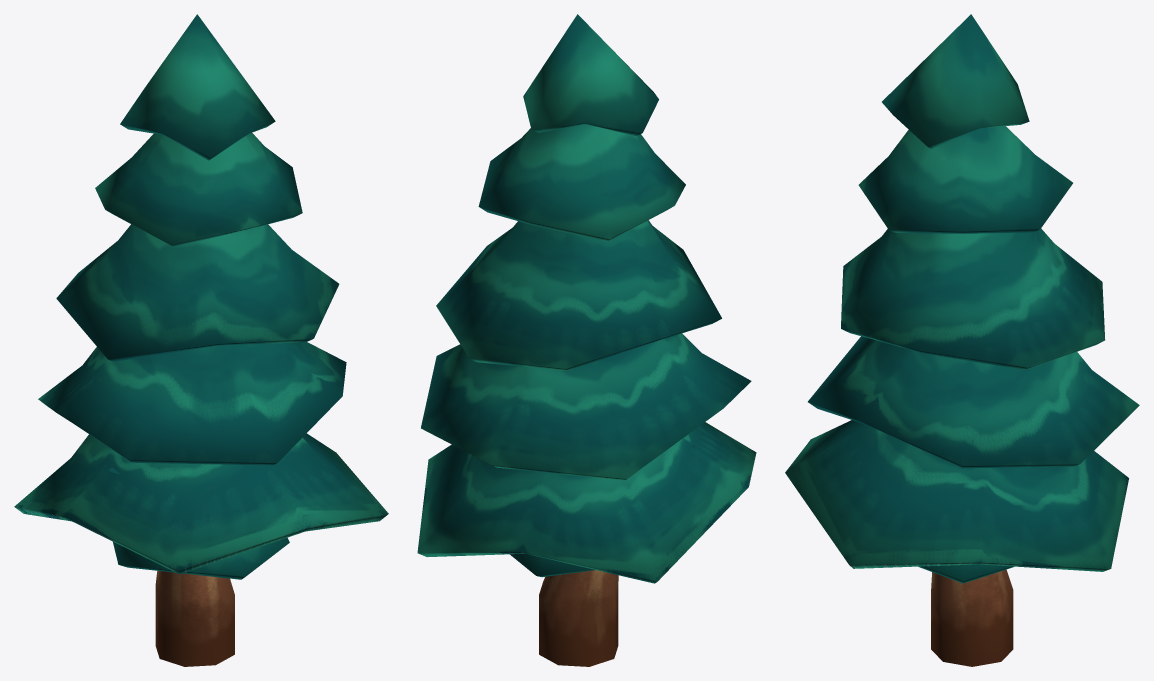
Rendered from M_Big pine trunk.fbx.
3 renders of one model, left to right at view 1: azimuth 30°, elevation 25°; view 2: azimuth 150°, elevation 25°; view 3: azimuth 270°, elevation 25°, orthographic.
Parts seen in each view (by area): view 1: M_Big pine trunk; view 2: M_Big pine trunk; view 3: M_Big pine trunk.
Part boxes in pixels (left/top/right/bottom): M_Big pine trunk: left=14, top=14, right=388, bottom=666; M_Big pine trunk: left=417, top=14, right=756, bottom=666; M_Big pine trunk: left=785, top=14, right=1139, bottom=666.
Size of the model in its own units: 2.61 by 2.52 by 5.16.
Materials: 1 (1 with a texture image).
